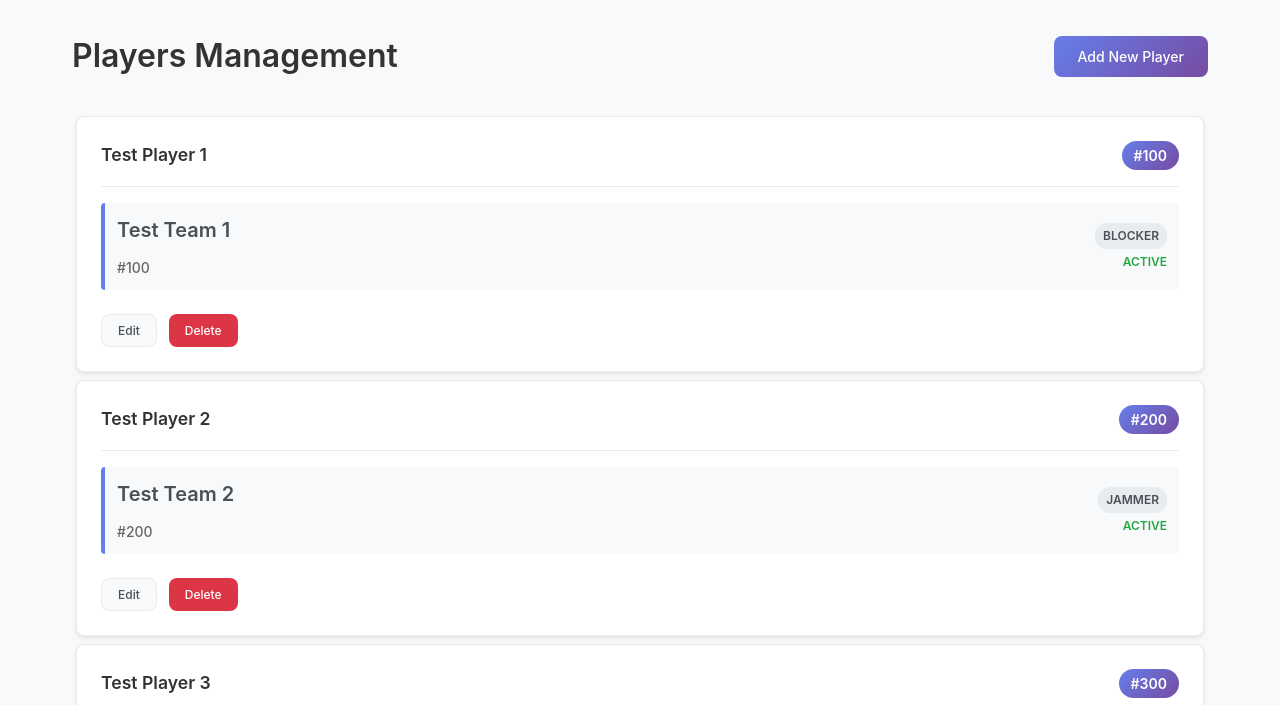
Test: Players Component › shows add player form when button is clicked
The image size is (1280, 705).
Click the button "Add New Player": (1131, 56) [1054,36,1208,76]
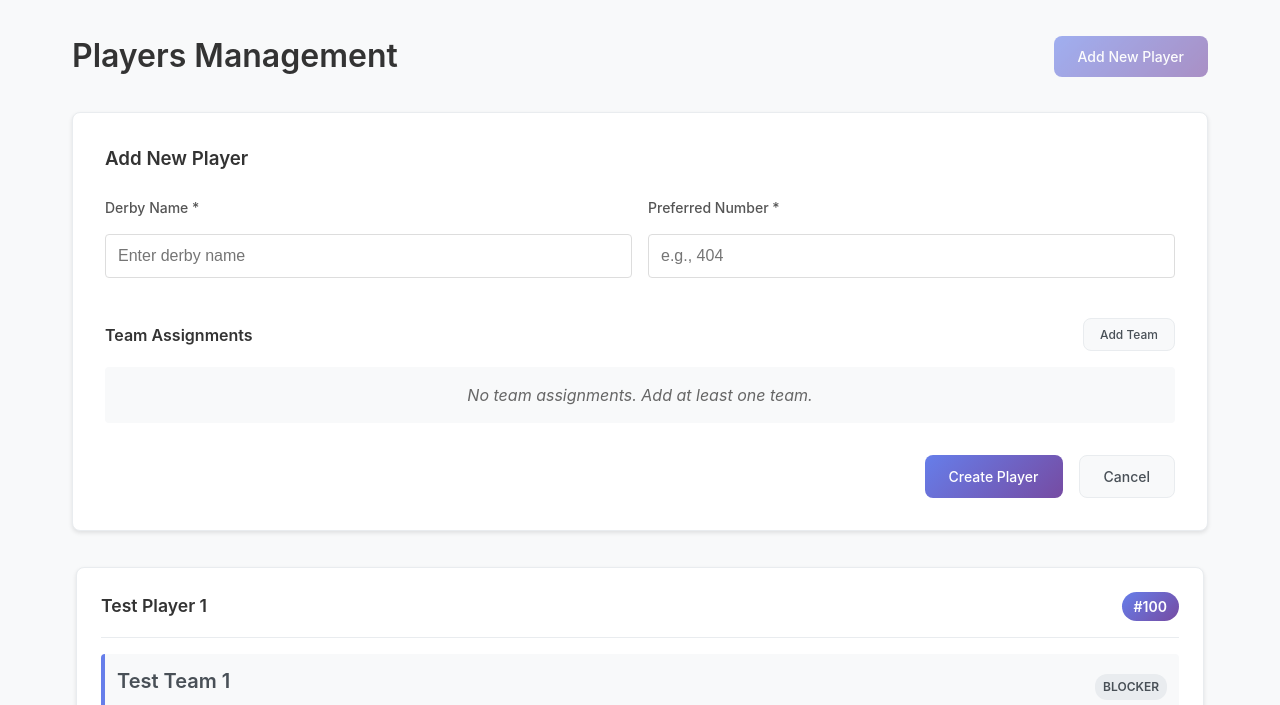
Check: the field with placeholder "Enter derby name" is shown, box [105,234,632,278]
Check: the field with placeholder "e.g., 404" is shown, box [648,234,1175,278]
Check: the button "Create Player" is shown, box [924,455,1062,498]
